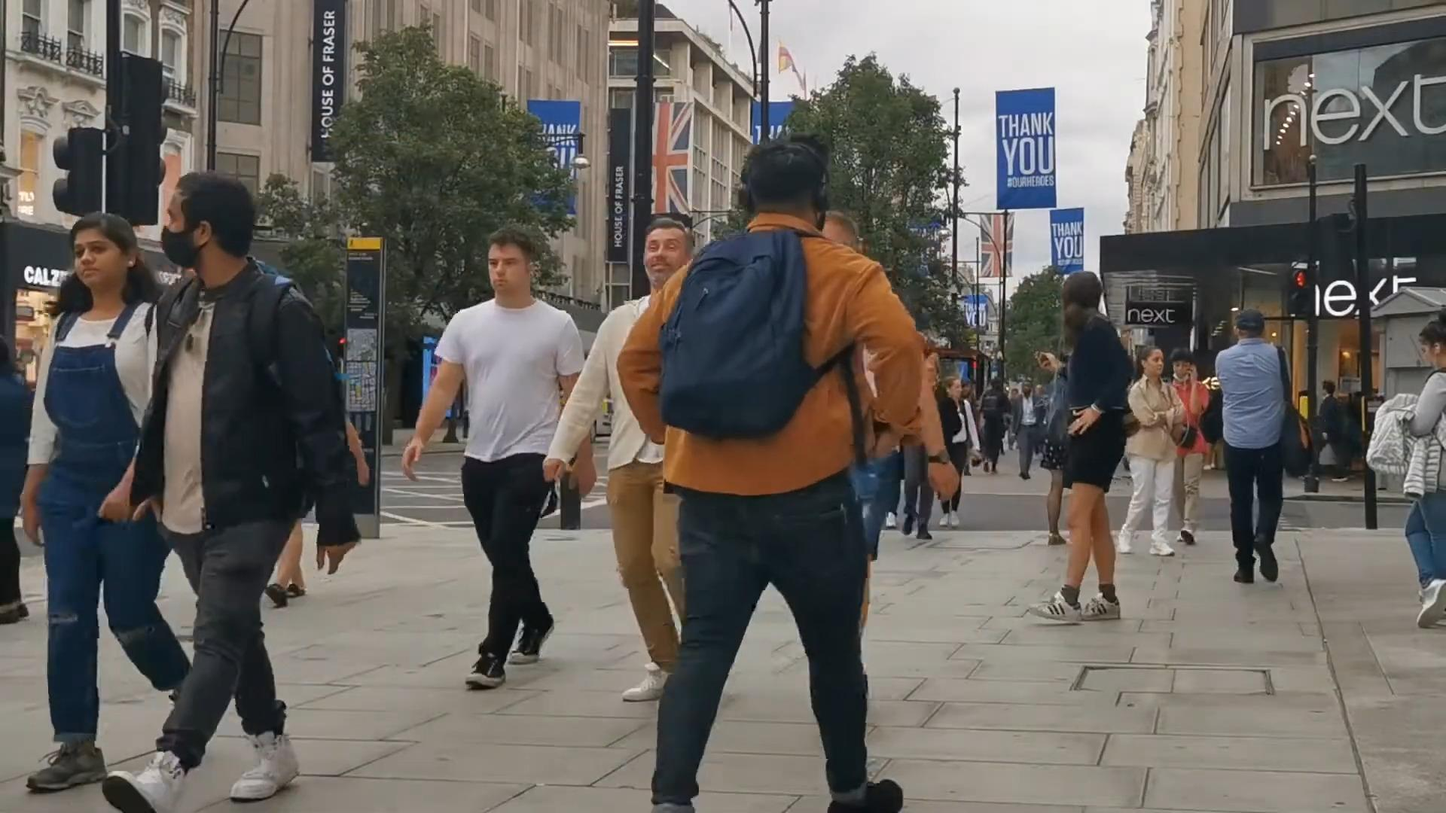no-helmet: (162, 170, 255, 274), (741, 131, 832, 231), (60, 212, 147, 293), (643, 218, 694, 288), (487, 227, 534, 297), (1062, 270, 1102, 331), (1418, 307, 1446, 367), (1135, 345, 1165, 377), (1234, 309, 1265, 339), (1170, 348, 1193, 382), (941, 376, 962, 399), (1322, 380, 1336, 395)
